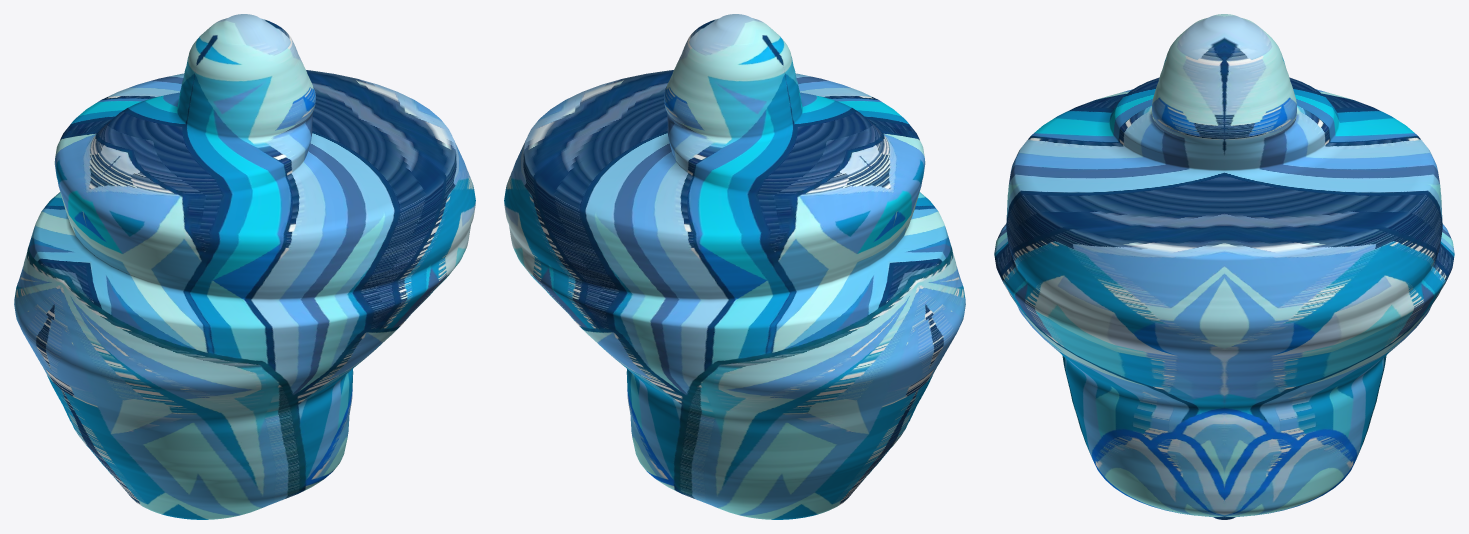
Rendered from ice_crystal_fan.glb.
3 renders of one model, left to right at view 1: azimuth 30°, elevation 25°; view 2: azimuth 150°, elevation 25°; view 3: azimuth 270°, elevation 25°, orthographic. The views are drawn at different scales.
Visible parts, largest first — view 1: ice_crystal_fan; view 2: ice_crystal_fan; view 3: ice_crystal_fan.
Part boxes in pixels (box(x1,y1,x2,y2)): ice_crystal_fan: box(14, 14, 475, 519); ice_crystal_fan: box(504, 14, 965, 519); ice_crystal_fan: box(994, 14, 1454, 519).
Size of the model in its own units: 0.9942 by 1.11 by 0.918.
1 material, 1 textured.
